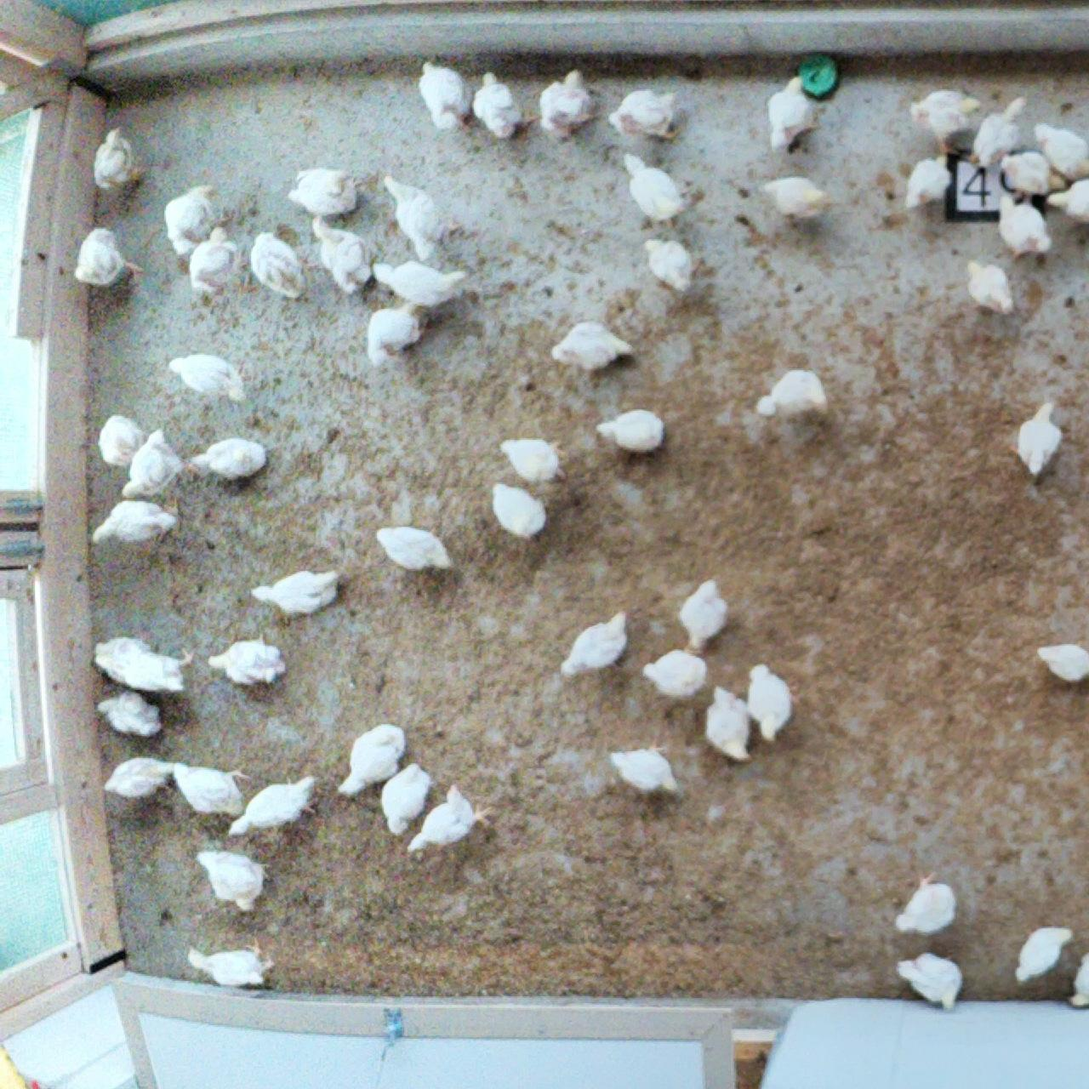chicken: (376, 164, 463, 267), (222, 768, 328, 844), (179, 218, 259, 309), (400, 782, 496, 857), (557, 601, 637, 687), (544, 314, 639, 384), (244, 560, 346, 625), (614, 149, 691, 235), (306, 211, 381, 299), (335, 717, 411, 802), (190, 843, 276, 918), (180, 930, 282, 993), (198, 630, 297, 693), (67, 223, 149, 299), (366, 254, 471, 313), (1003, 394, 1070, 486), (906, 83, 983, 163), (86, 489, 185, 549), (886, 863, 962, 941), (164, 757, 255, 822), (757, 68, 821, 160), (664, 571, 734, 654), (166, 348, 256, 410), (966, 89, 1032, 173), (752, 361, 833, 429), (600, 739, 684, 804), (992, 141, 1076, 206), (603, 82, 685, 148), (361, 296, 431, 373), (372, 521, 463, 580), (279, 162, 368, 221), (994, 190, 1061, 268), (244, 226, 310, 305), (98, 748, 180, 811), (412, 53, 471, 140), (376, 755, 435, 842), (534, 63, 595, 147), (471, 66, 533, 147), (700, 680, 758, 766), (742, 654, 795, 748), (494, 427, 574, 489), (161, 176, 218, 263), (84, 121, 148, 198), (891, 946, 965, 1012), (110, 644, 199, 697), (636, 641, 712, 703), (593, 403, 672, 462), (184, 433, 271, 485), (754, 170, 833, 227), (484, 477, 550, 545), (95, 685, 169, 745), (1009, 919, 1076, 985), (639, 234, 713, 293), (1026, 117, 1089, 183), (896, 149, 959, 215), (960, 256, 1021, 318), (94, 407, 150, 470), (92, 629, 157, 675), (1032, 641, 1089, 686), (1045, 171, 1089, 229), (1062, 949, 1089, 1014)
